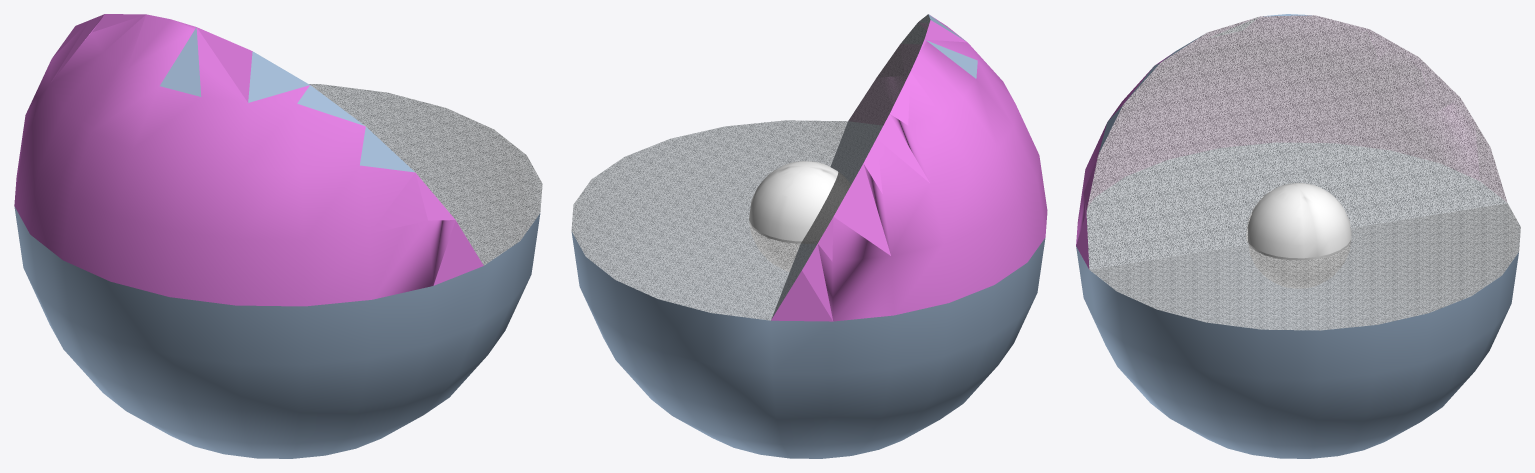
Rendered from Ядро і ядерце.obj.
3 renders of one model, left to right at view 1: azimuth 30°, elevation 25°; view 2: azimuth 150°, elevation 25°; view 3: azimuth 270°, elevation 25°, orthographic. The views are drawn at different scales.
Visible parts, largest first — view 1: Mesh1 Group2 Group1 Model; view 2: Mesh1 Group2 Group1 Model, Mesh2 Group3 Group1 Model; view 3: Mesh1 Group2 Group1 Model, Mesh2 Group3 Group1 Model.
Boxes of the visible parts, box(x1,y1,x2,y2) form: Mesh1 Group2 Group1 Model: box(14, 14, 542, 458); Mesh1 Group2 Group1 Model: box(571, 14, 1047, 458); Mesh2 Group3 Group1 Model: box(749, 161, 846, 270); Mesh1 Group2 Group1 Model: box(1076, 14, 1520, 458); Mesh2 Group3 Group1 Model: box(1247, 183, 1351, 287).
Bounding box in the file's own units: 1012 × 952 × 1012.
4 materials, 1 textured.
